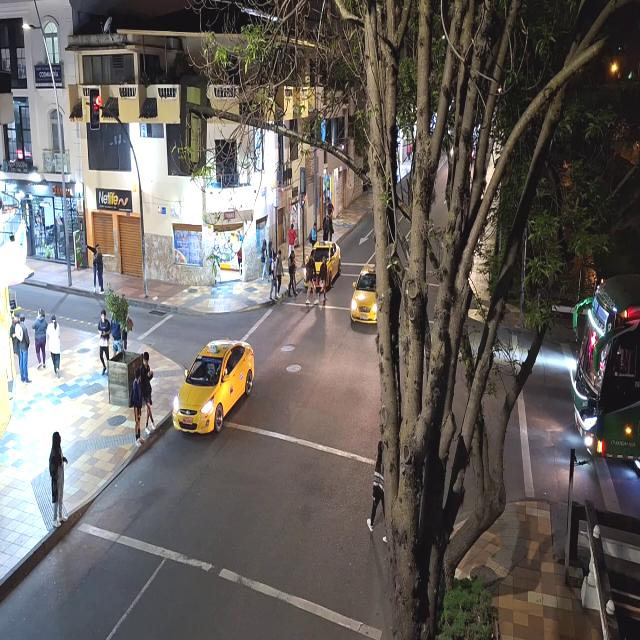BUS: (574, 280, 640, 472)
SED: (178, 342, 252, 434), (297, 239, 344, 296), (352, 265, 378, 325)
